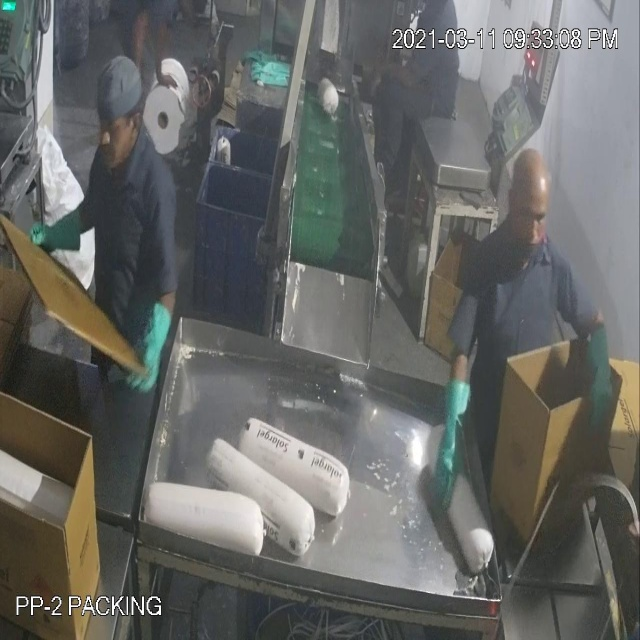Guantes: (435, 363, 481, 531), (577, 321, 621, 448)
Sin_guantes: (149, 16, 180, 100)
